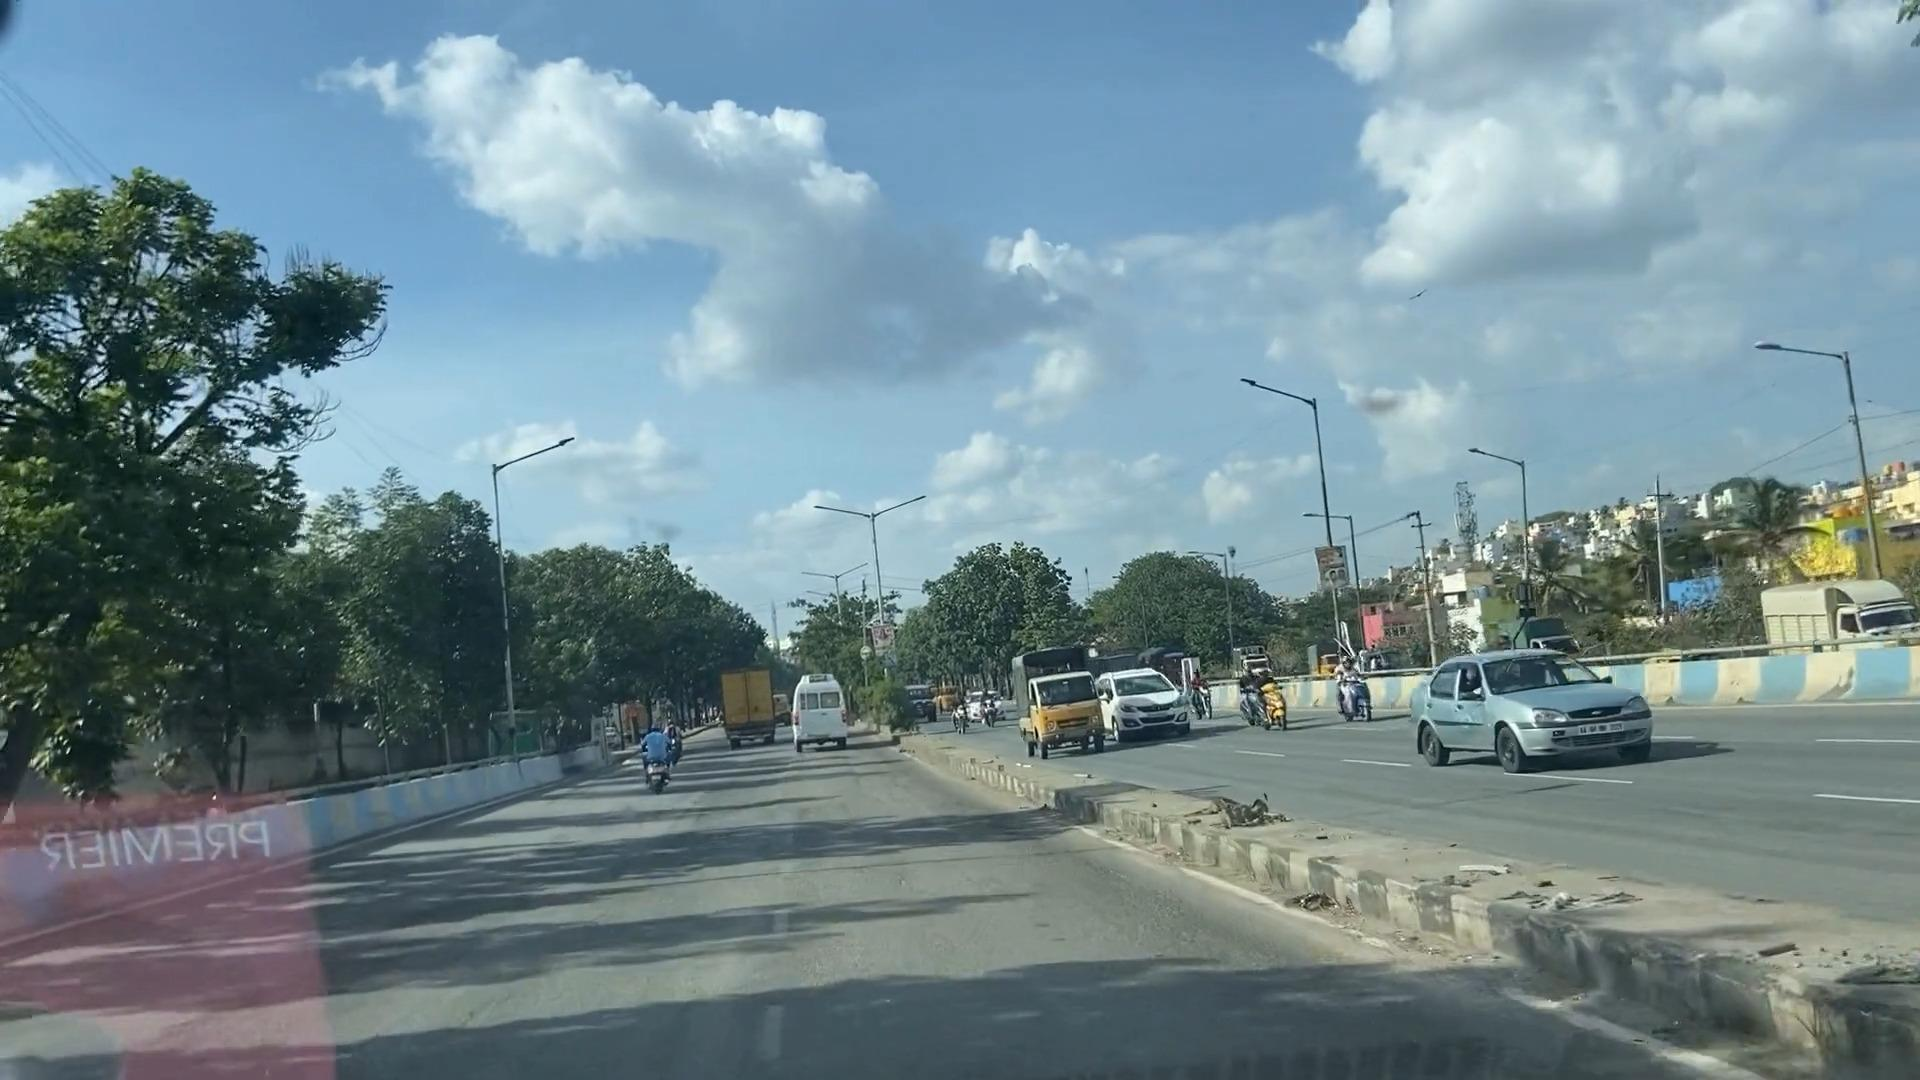HMV: (690, 655, 786, 749), (791, 671, 868, 761)
LMV: (632, 731, 699, 806)
